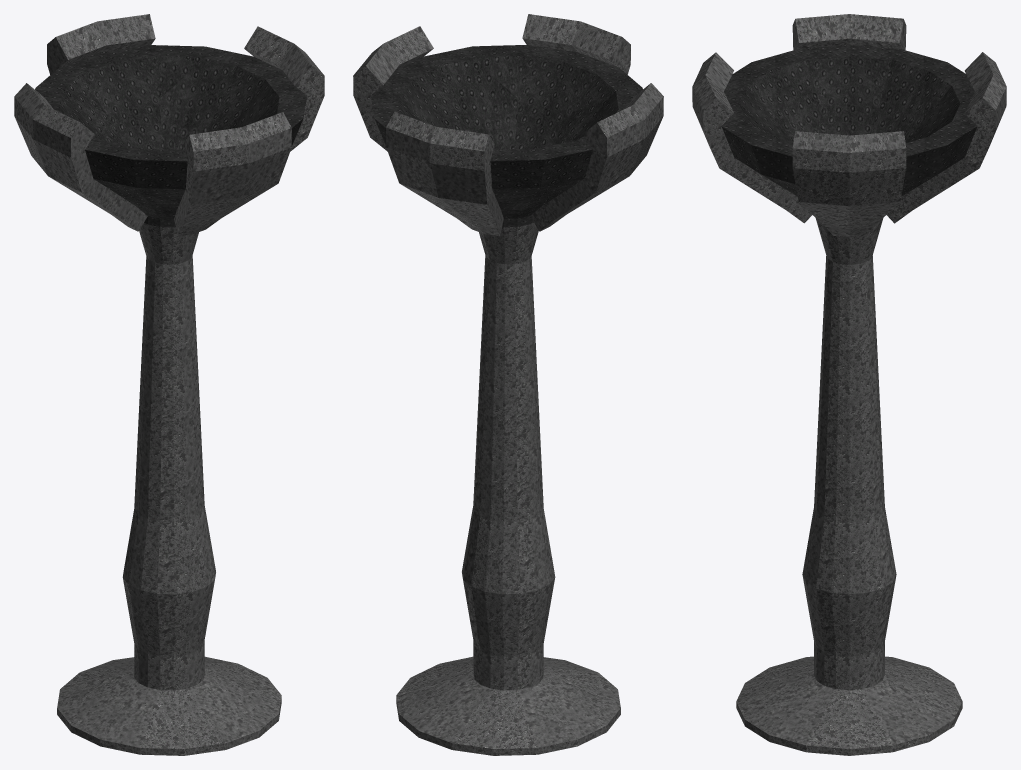
The model's file is brazier.dae.
The picture shows the model from 3 angles, left to right: view 1: azimuth 30°, elevation 25°; view 2: azimuth 150°, elevation 25°; view 3: azimuth 270°, elevation 25°; orthographic projection.
Parts seen in each view (by area): view 1: socle, pan; view 2: socle, pan; view 3: socle, pan.
Part boxes in pixels (x1,y1,x2,y2): socle: (14, 14, 324, 755); pan: (35, 45, 306, 227); socle: (353, 14, 663, 755); pan: (371, 45, 642, 227); socle: (692, 14, 1006, 755); pan: (721, 45, 977, 196).
Size of the model in its own units: 0.3229 by 0.3229 by 0.7178.
Materials: 2 (2 with a texture image).
